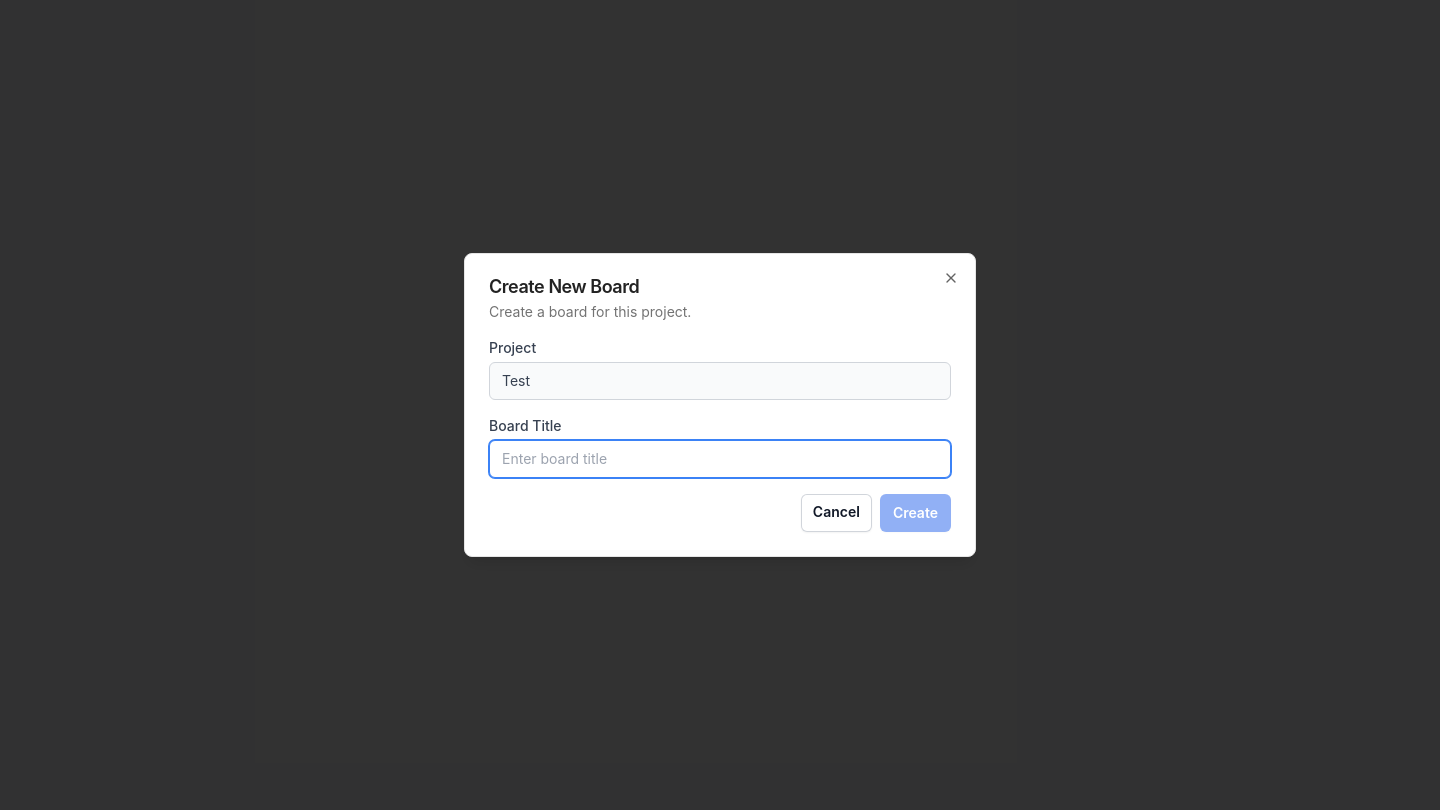
Test: CreateBoardModal Component › Form Validation › enables create button when form is valid
The image size is (1440, 810).
Step 1. Type "My Board" into the field labelled "Board Title" → (720, 459), box 489,440 -> 951,478
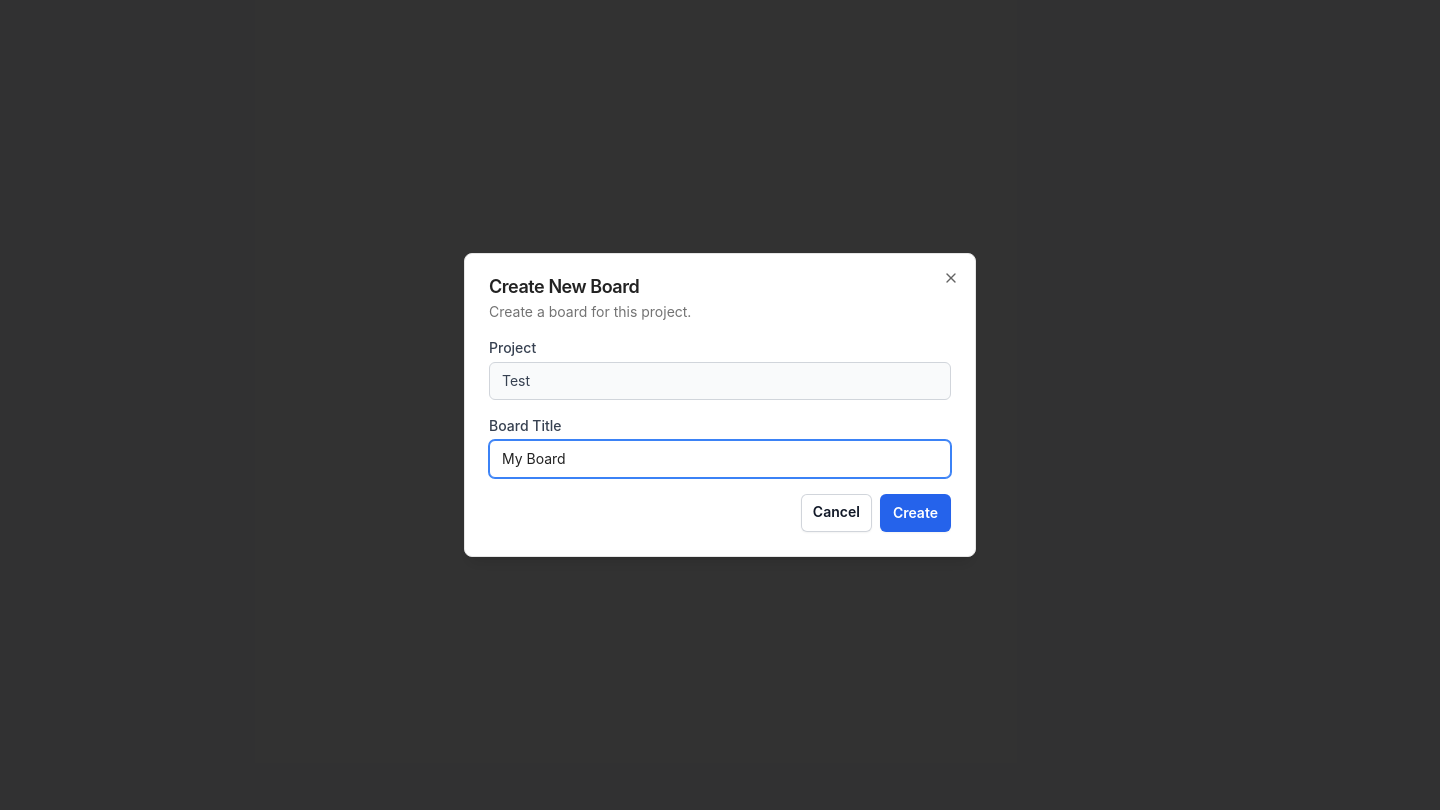
Check: the button "Create" is enabled, box 880,494 -> 951,532
